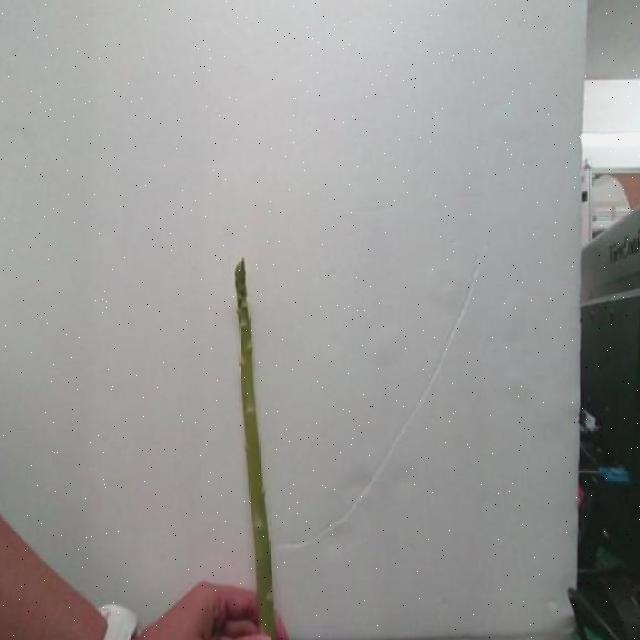aspargus: (233, 260, 289, 640)
